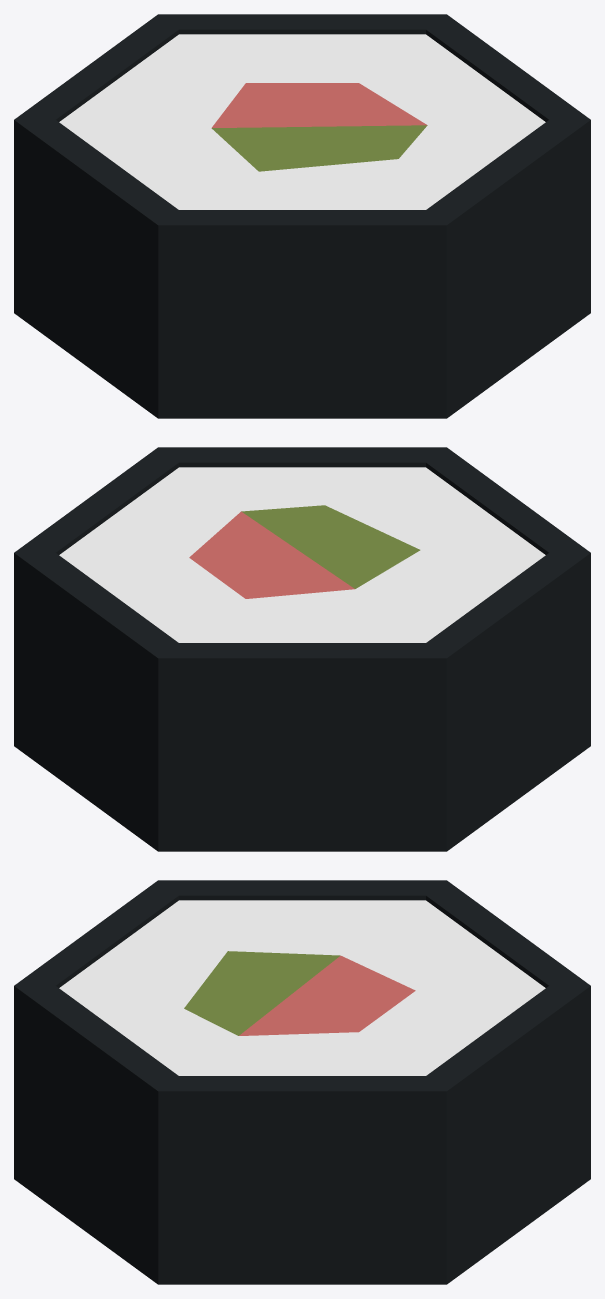
The model's file is Sushi_roll_01.fbx.
3 renders of one model, top to bottom at view 1: azimuth 30°, elevation 25°; view 2: azimuth 150°, elevation 25°; view 3: azimuth 270°, elevation 25°, orthographic.
Parts seen in each view (by area): view 1: Sushi_roll_01; view 2: Sushi_roll_01; view 3: Sushi_roll_01.
Boxes of the visible parts, box(x1,y1,x2,y2) form: Sushi_roll_01: box(14, 14, 590, 418); Sushi_roll_01: box(14, 447, 590, 851); Sushi_roll_01: box(14, 880, 590, 1284).
Bounding box in the file's own units: 6.74 × 2.88 × 7.78.
